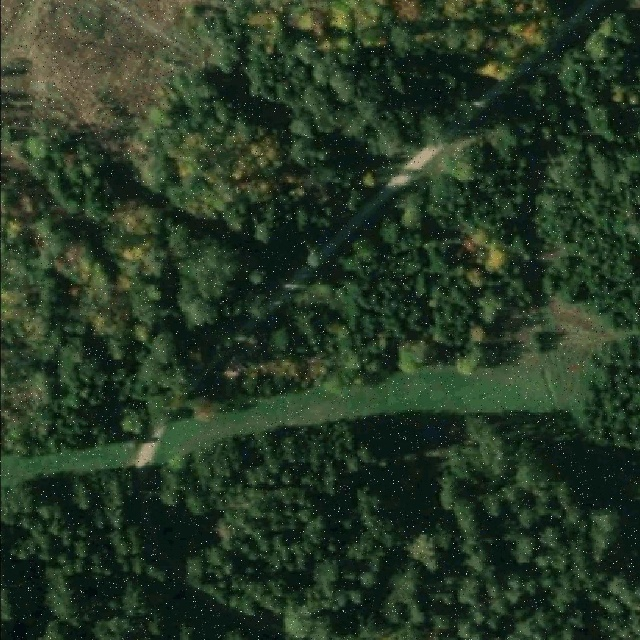vegetation: (0, 1, 640, 640)
